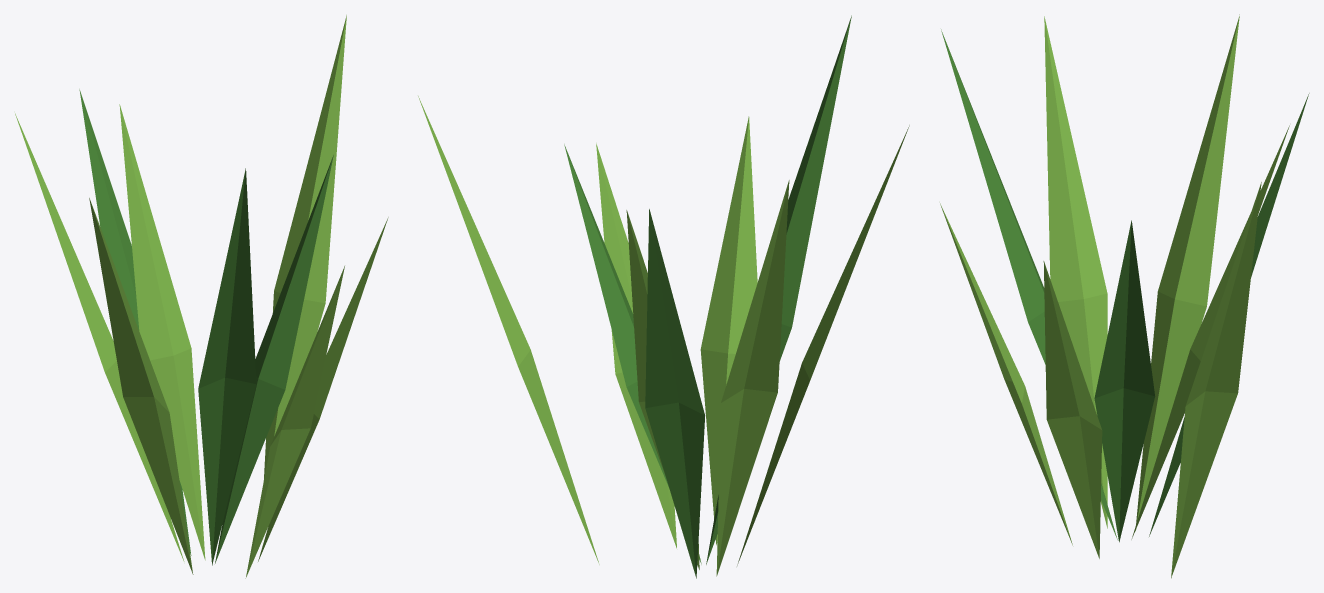
File: grass_clump_02.glb
3 renders of one model, left to right at view 1: azimuth 30°, elevation 25°; view 2: azimuth 150°, elevation 25°; view 3: azimuth 270°, elevation 25°, orthographic. The views are drawn at different scales.
Parts seen in each view (by area): view 1: OBJ_grass_clump_02; view 2: OBJ_grass_clump_02; view 3: OBJ_grass_clump_02.
Boxes of the visible parts, x1=… form: OBJ_grass_clump_02: x1=15, y1=15, x2=388, y2=578; OBJ_grass_clump_02: x1=418, y1=15, x2=909, y2=578; OBJ_grass_clump_02: x1=940, y1=14, x2=1309, y2=578.
Bounding box in the file's own units: 0.2476 × 0.3088 × 0.2128.
